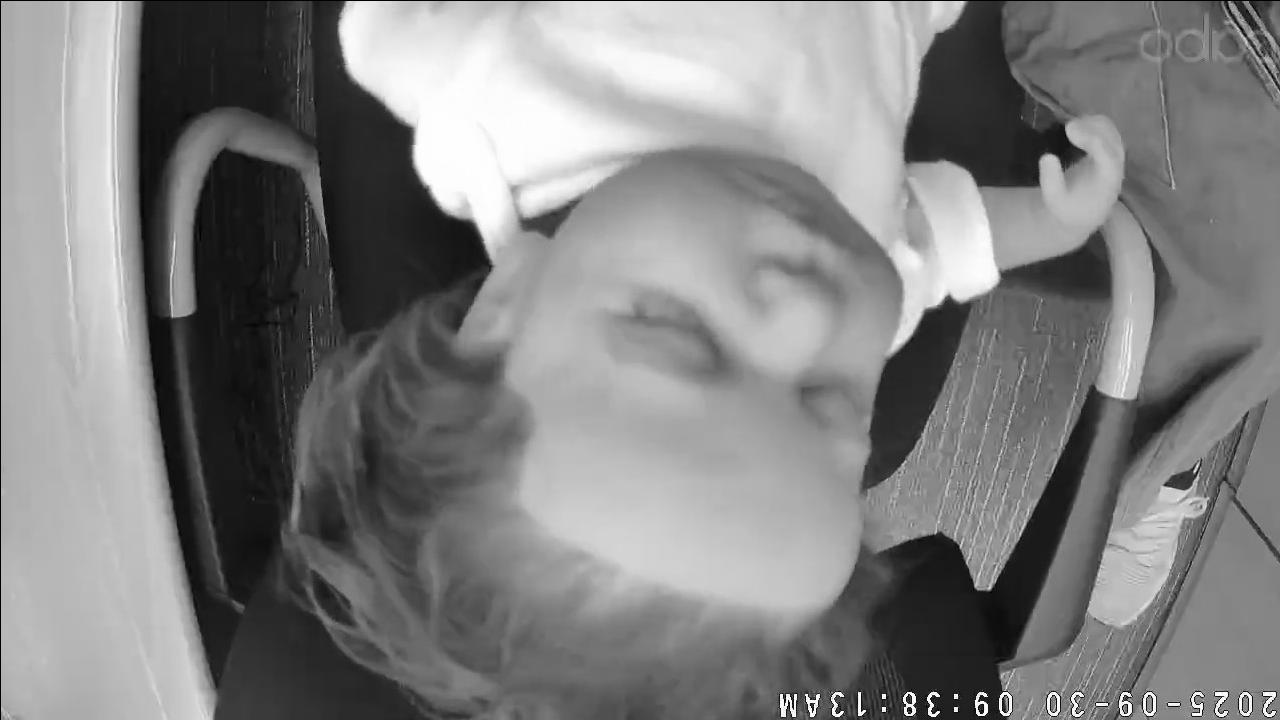hand: (1029, 111, 1125, 237)
